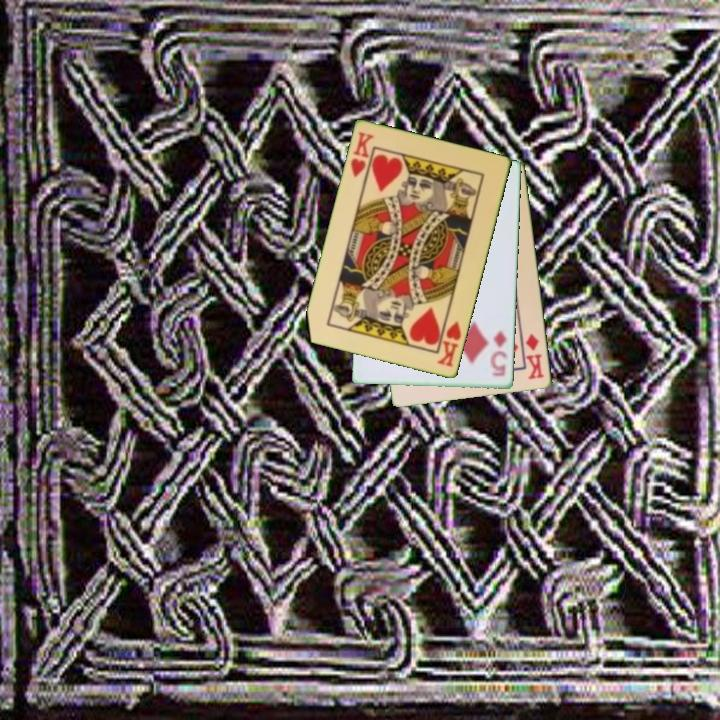5d: (488, 326, 510, 379)
Kd: (522, 330, 547, 382)
Kh: (434, 313, 464, 370), (347, 129, 377, 184)
